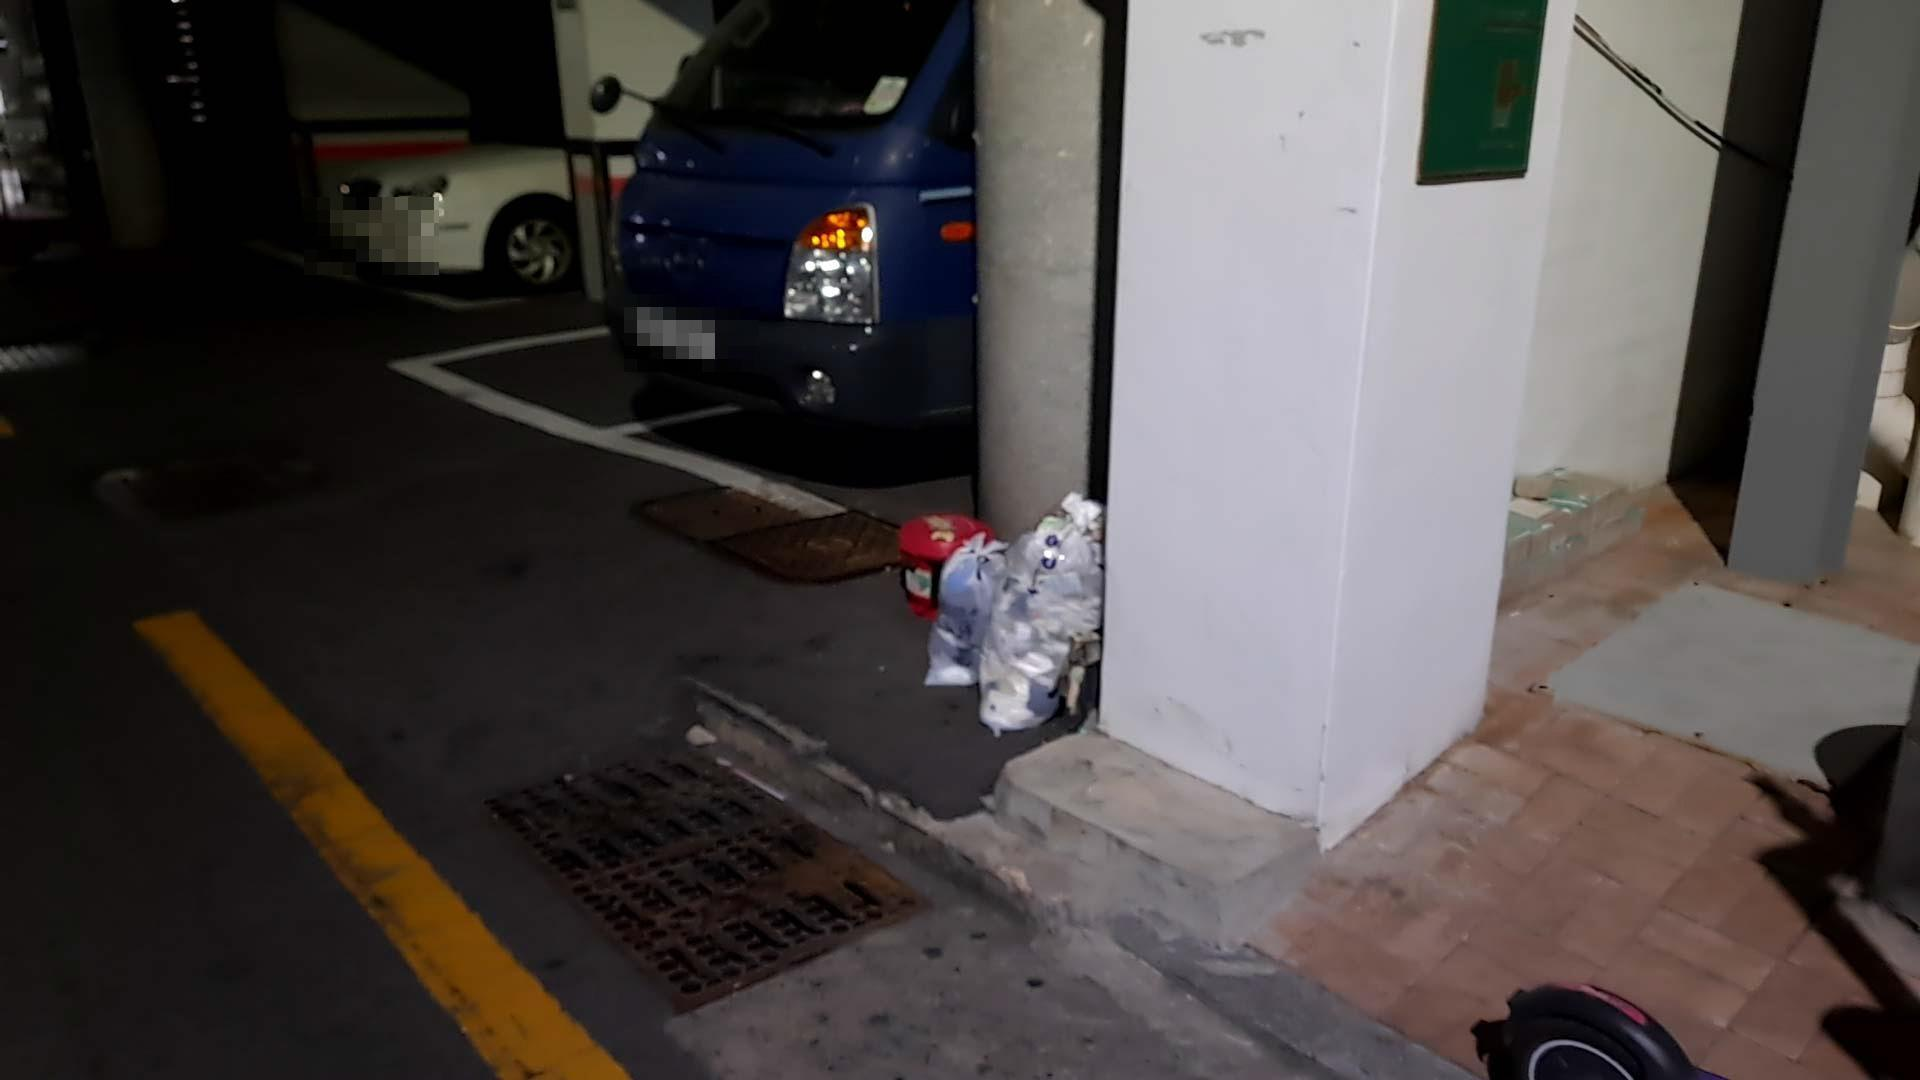white_bag: (974, 488, 1103, 738), (918, 525, 1009, 694)
